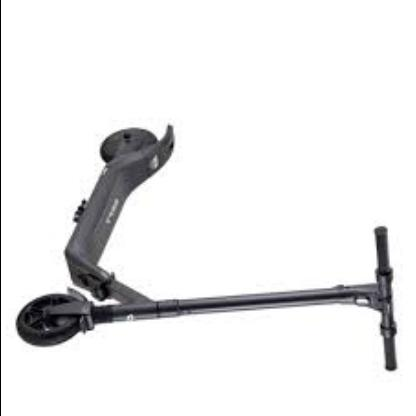bike: (16, 121, 403, 359)
